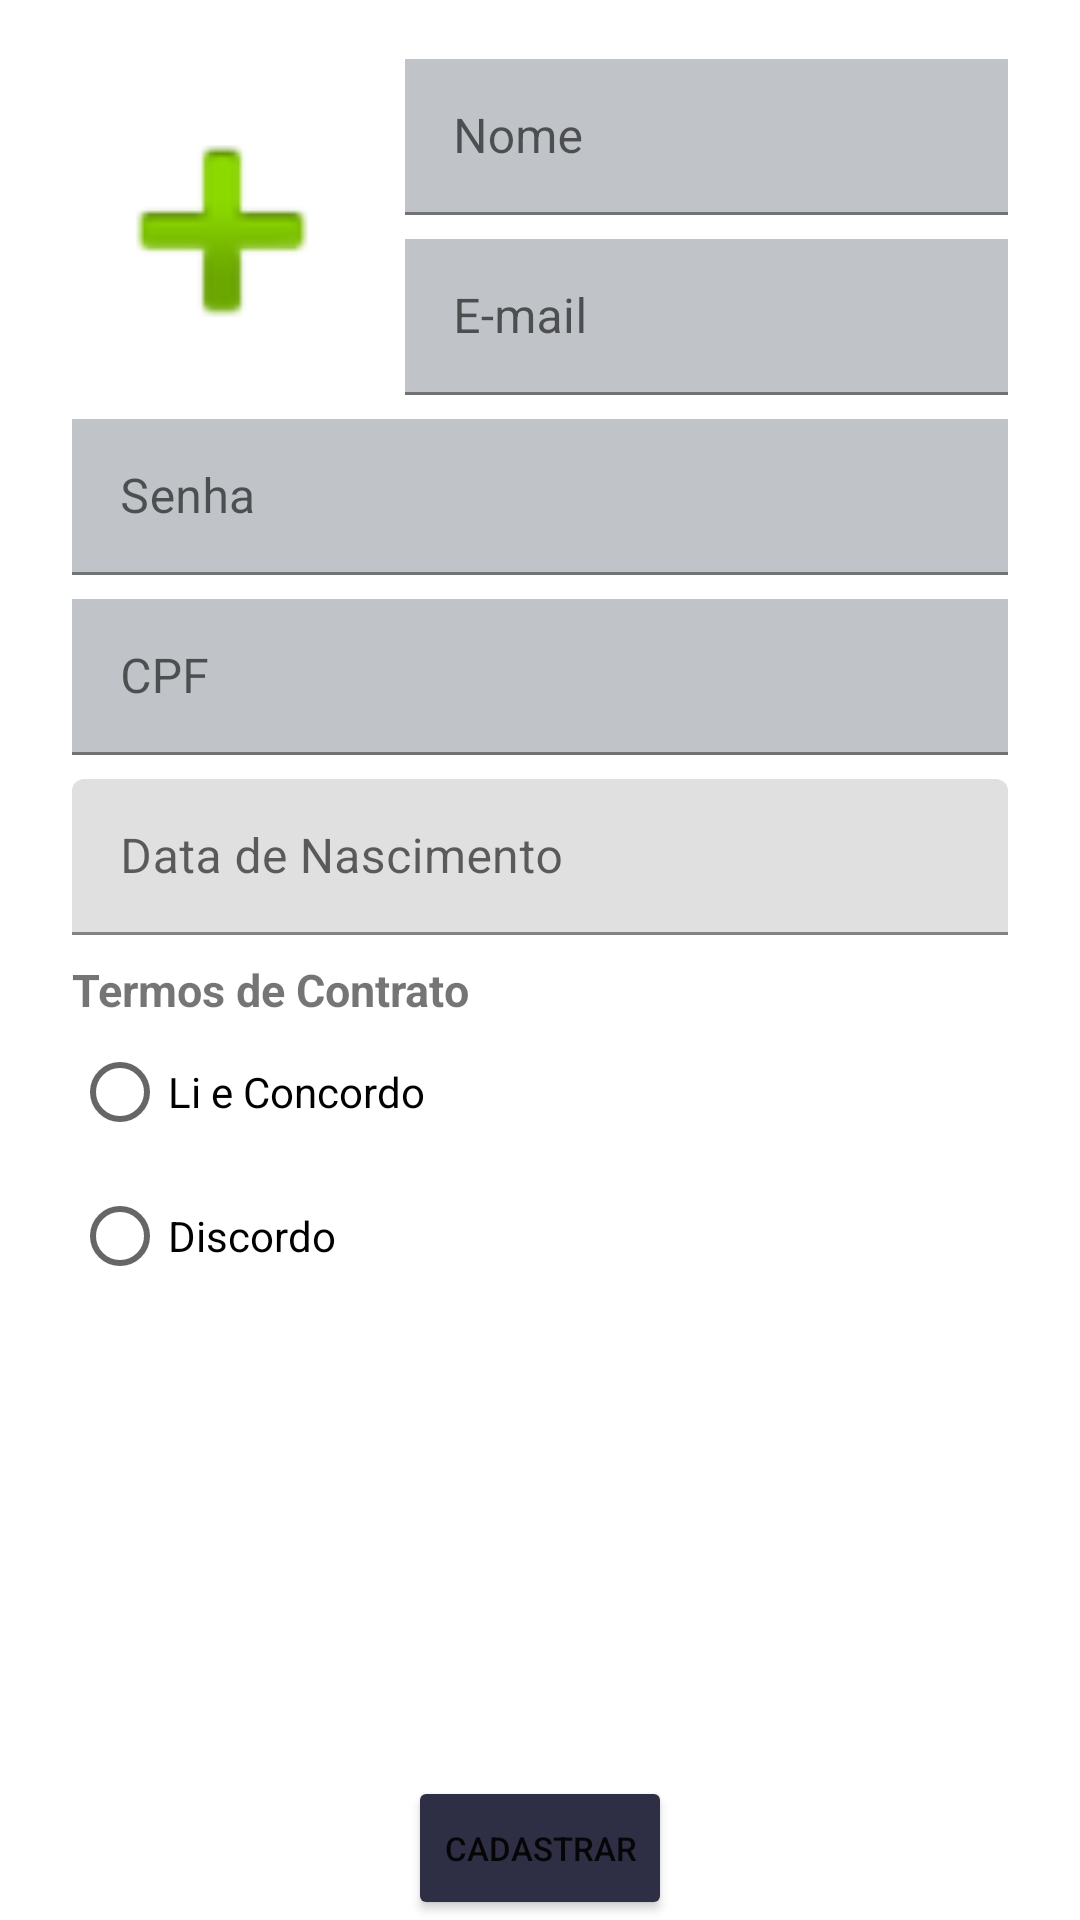

Point at icon controls on the screen. Image size 1080px×1920px, points as point (x, y).
add: point (222, 231)
